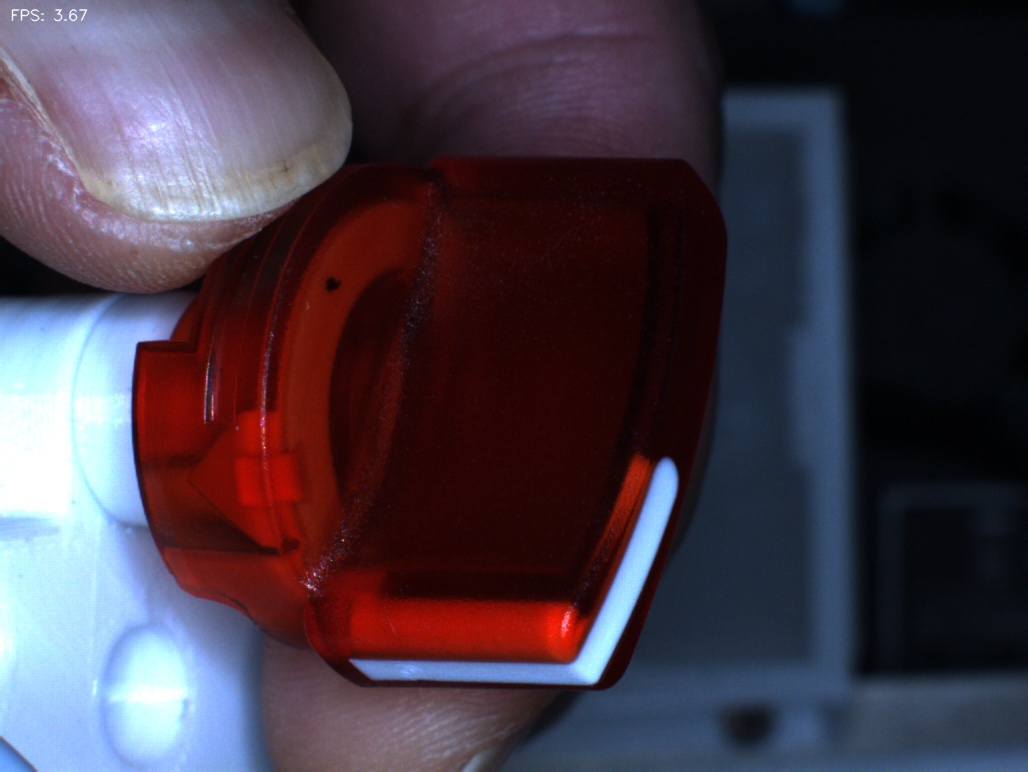PointNoir: (298, 238, 372, 331)
